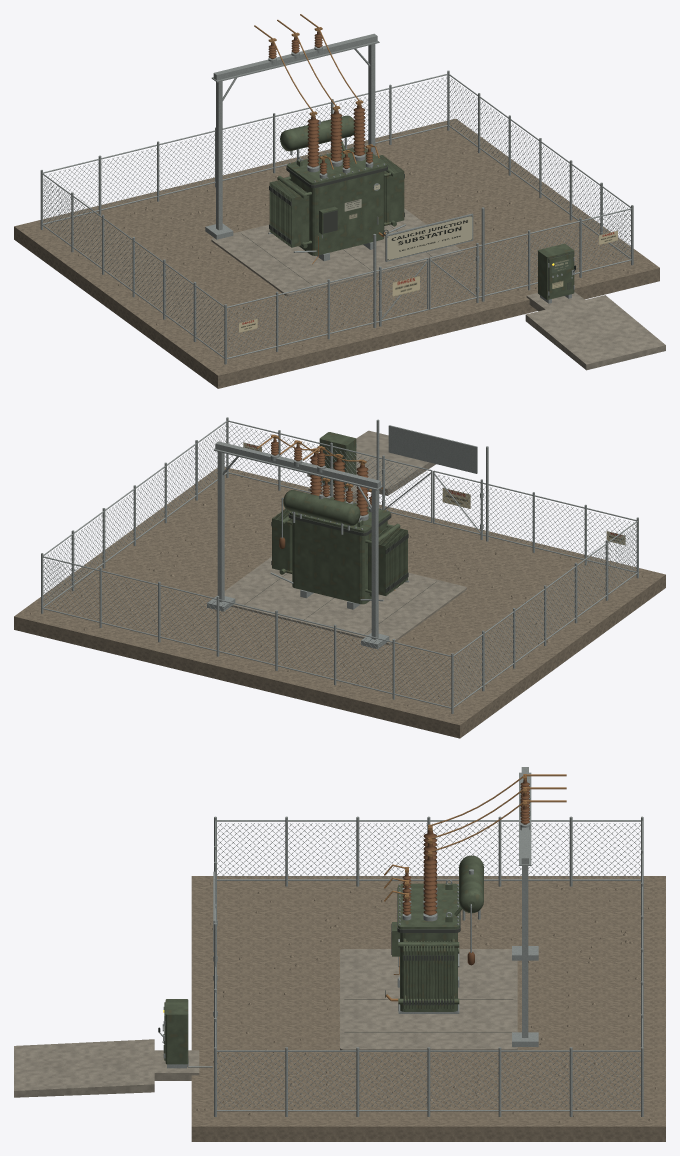
File: Caliche_Junction_Substation.glb
3 views of the same model, one above another, from view 1: azimuth 30°, elevation 25°; view 2: azimuth 150°, elevation 25°; view 3: azimuth 270°, elevation 25° (orthographic). The views are drawn at different scales.
Parts seen in each view (by area): view 1: SM_Substation_Gravel, SM_Substation_Fence, SM_Substation_Transformer, SM_Substation_Pad, SM_Substation_Buswork, SM_Substation_Control, SM_Substation_Gate_L, SM_Substation_Gate_R; view 2: SM_Substation_Gravel, SM_Substation_Fence, SM_Substation_Transformer, SM_Substation_Pad, SM_Substation_Buswork, SM_Substation_Gate_L, SM_Substation_Gate_R, SM_Substation_Control; view 3: SM_Substation_Gravel, SM_Substation_Fence, SM_Substation_Pad, SM_Substation_Transformer, SM_Substation_Buswork, SM_Substation_Control.
Part boxes in pixels (box(x1,y1,x2,y2)): SM_Substation_Gravel: box(14, 118, 659, 388); SM_Substation_Fence: box(40, 70, 633, 364); SM_Substation_Transformer: box(268, 100, 405, 264); SM_Substation_Pad: box(211, 208, 665, 370); SM_Substation_Buswork: box(205, 14, 379, 239); SM_Substation_Control: box(538, 243, 574, 303); SM_Substation_Gate_L: box(378, 258, 428, 321); SM_Substation_Gate_R: box(429, 246, 479, 309); SM_Substation_Gravel: box(14, 467, 665, 738); SM_Substation_Fence: box(41, 417, 638, 713); SM_Substation_Transformer: box(270, 448, 409, 609); SM_Substation_Pad: box(224, 430, 466, 644); SM_Substation_Buswork: box(207, 434, 389, 649); SM_Substation_Gate_L: box(433, 470, 483, 534); SM_Substation_Gate_R: box(382, 458, 432, 522); SM_Substation_Control: box(319, 432, 356, 492); SM_Substation_Gravel: box(191, 876, 665, 1141); SM_Substation_Fence: box(213, 816, 643, 1116); SM_Substation_Pad: box(14, 949, 517, 1097); SM_Substation_Transformer: box(384, 824, 483, 1013); SM_Substation_Buswork: box(430, 767, 566, 1046); SM_Substation_Control: box(162, 999, 212, 1068).
Bounding box in the file's own units: 20 × 8.53 × 22.
10 materials, 5 textured.
